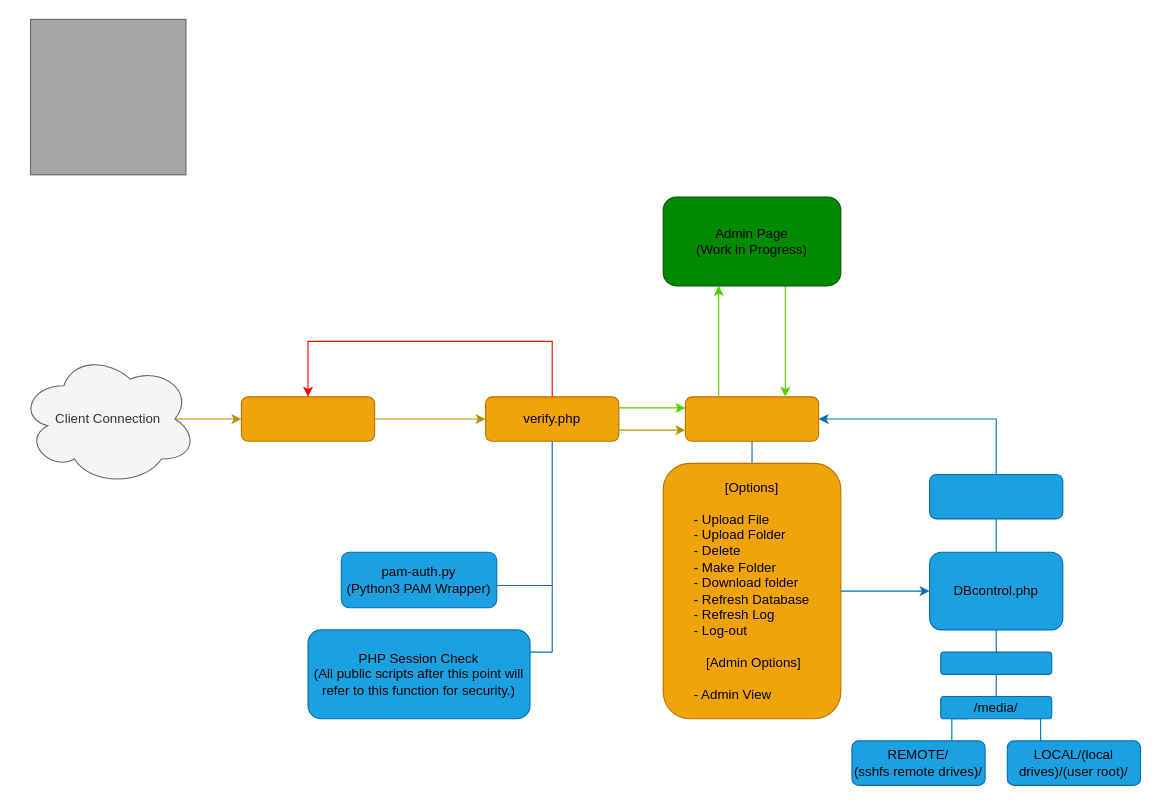
The diagram is 1160 pixels wide and 805 high, and some of its shapes have lost their labels. The shapes that lost their labels are listed below. From the top down, each one's centre as x and y in pixels, then its label:
point (107, 96): Key Admin Access Guest Access Access Denied System Function
point (307, 418): login.html
point (751, 418): browser.php
point (996, 496): SQL Database (MariaDB)
point (996, 662): File-System
